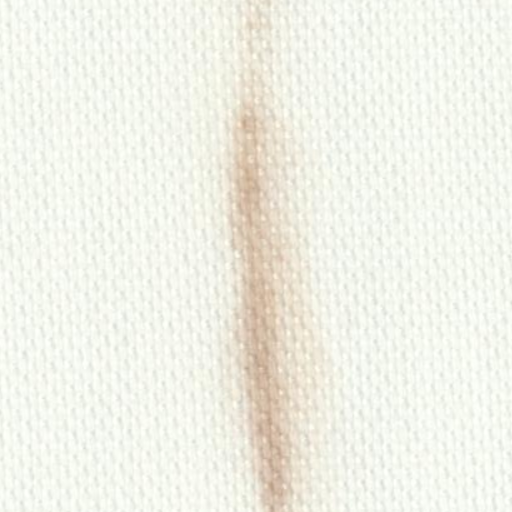WuZi: (204, 6, 342, 506)
